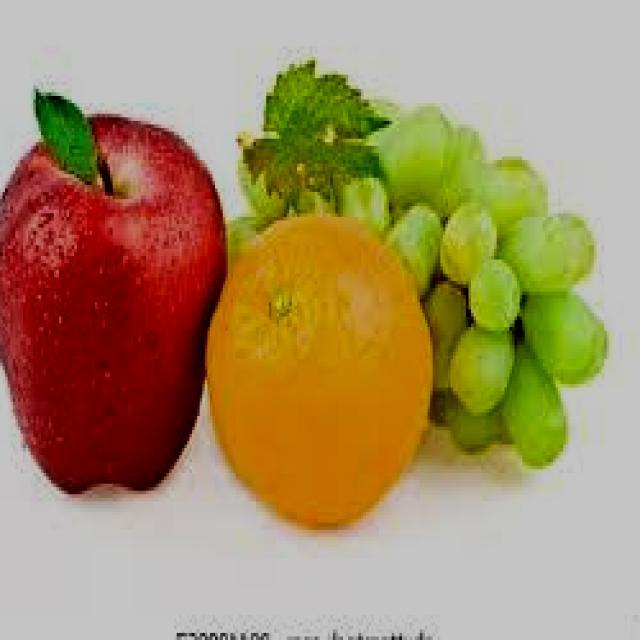apple: (0, 96, 238, 494)
orange: (196, 206, 443, 534)
